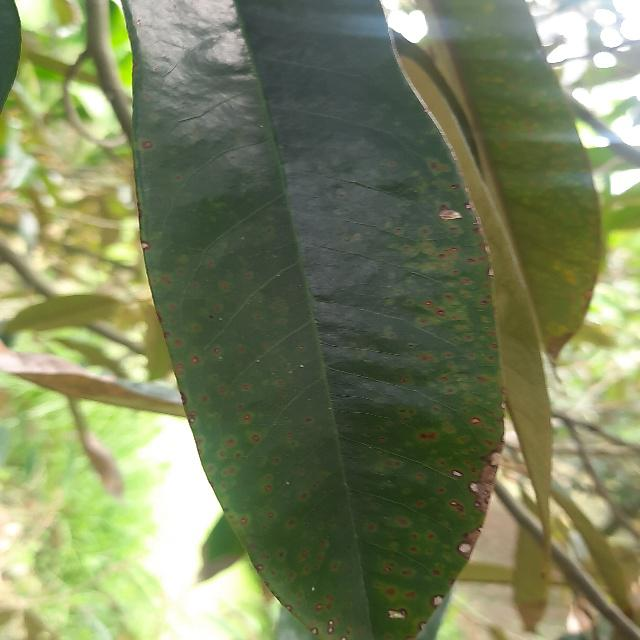Leaf Spot: (117, 0, 510, 639)
